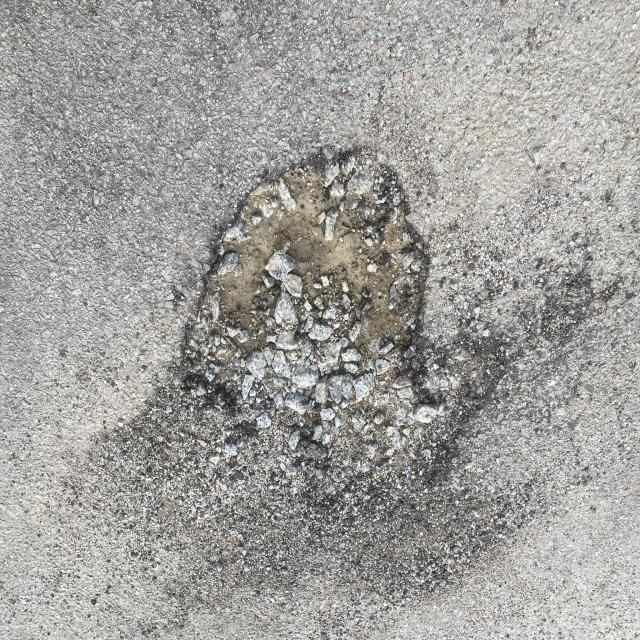pothole: (146, 132, 550, 518)
